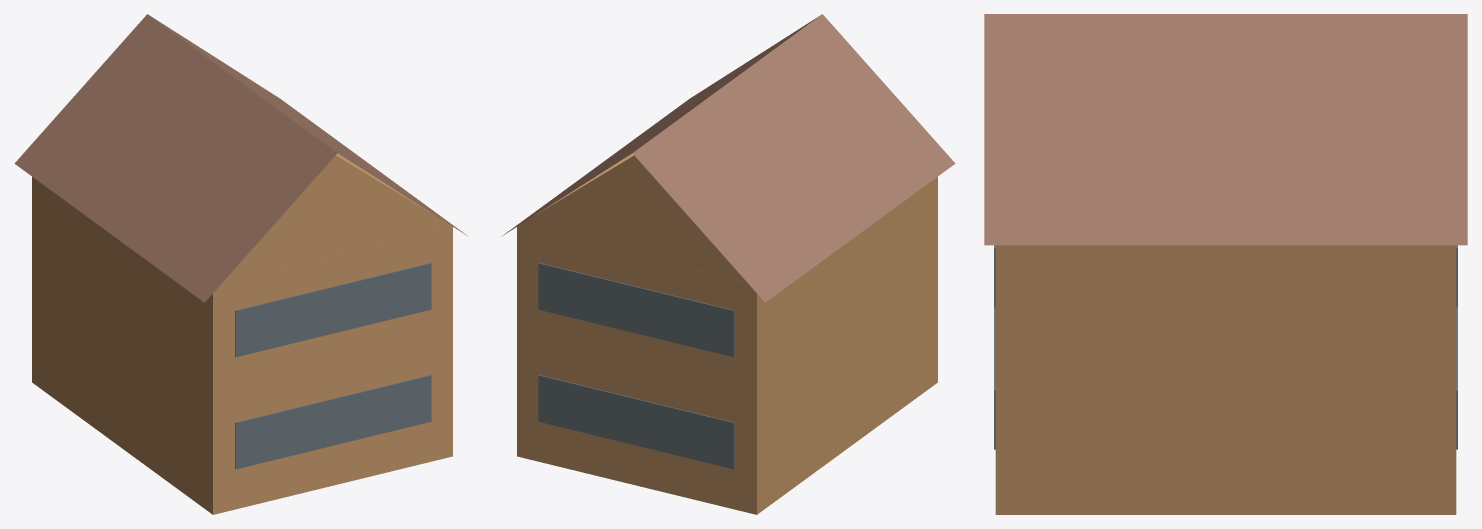
The model's file is cove-house-orange.coast-v2.lod2.glb.
3 views of the same model, side by side, from view 1: azimuth 30°, elevation 25°; view 2: azimuth 150°, elevation 25°; view 3: azimuth 270°, elevation 25° (orthographic). The views are drawn at different scales.
Visible parts, largest first — view 1: cove-house-orange; view 2: cove-house-orange; view 3: cove-house-orange.
Boxes of the visible parts, x1,y1,x2,y2 form: cove-house-orange: [14, 14, 468, 514]; cove-house-orange: [501, 14, 955, 514]; cove-house-orange: [984, 14, 1467, 514].
Bounding box in the file's own units: 7.2 × 8.69 × 8.92.
